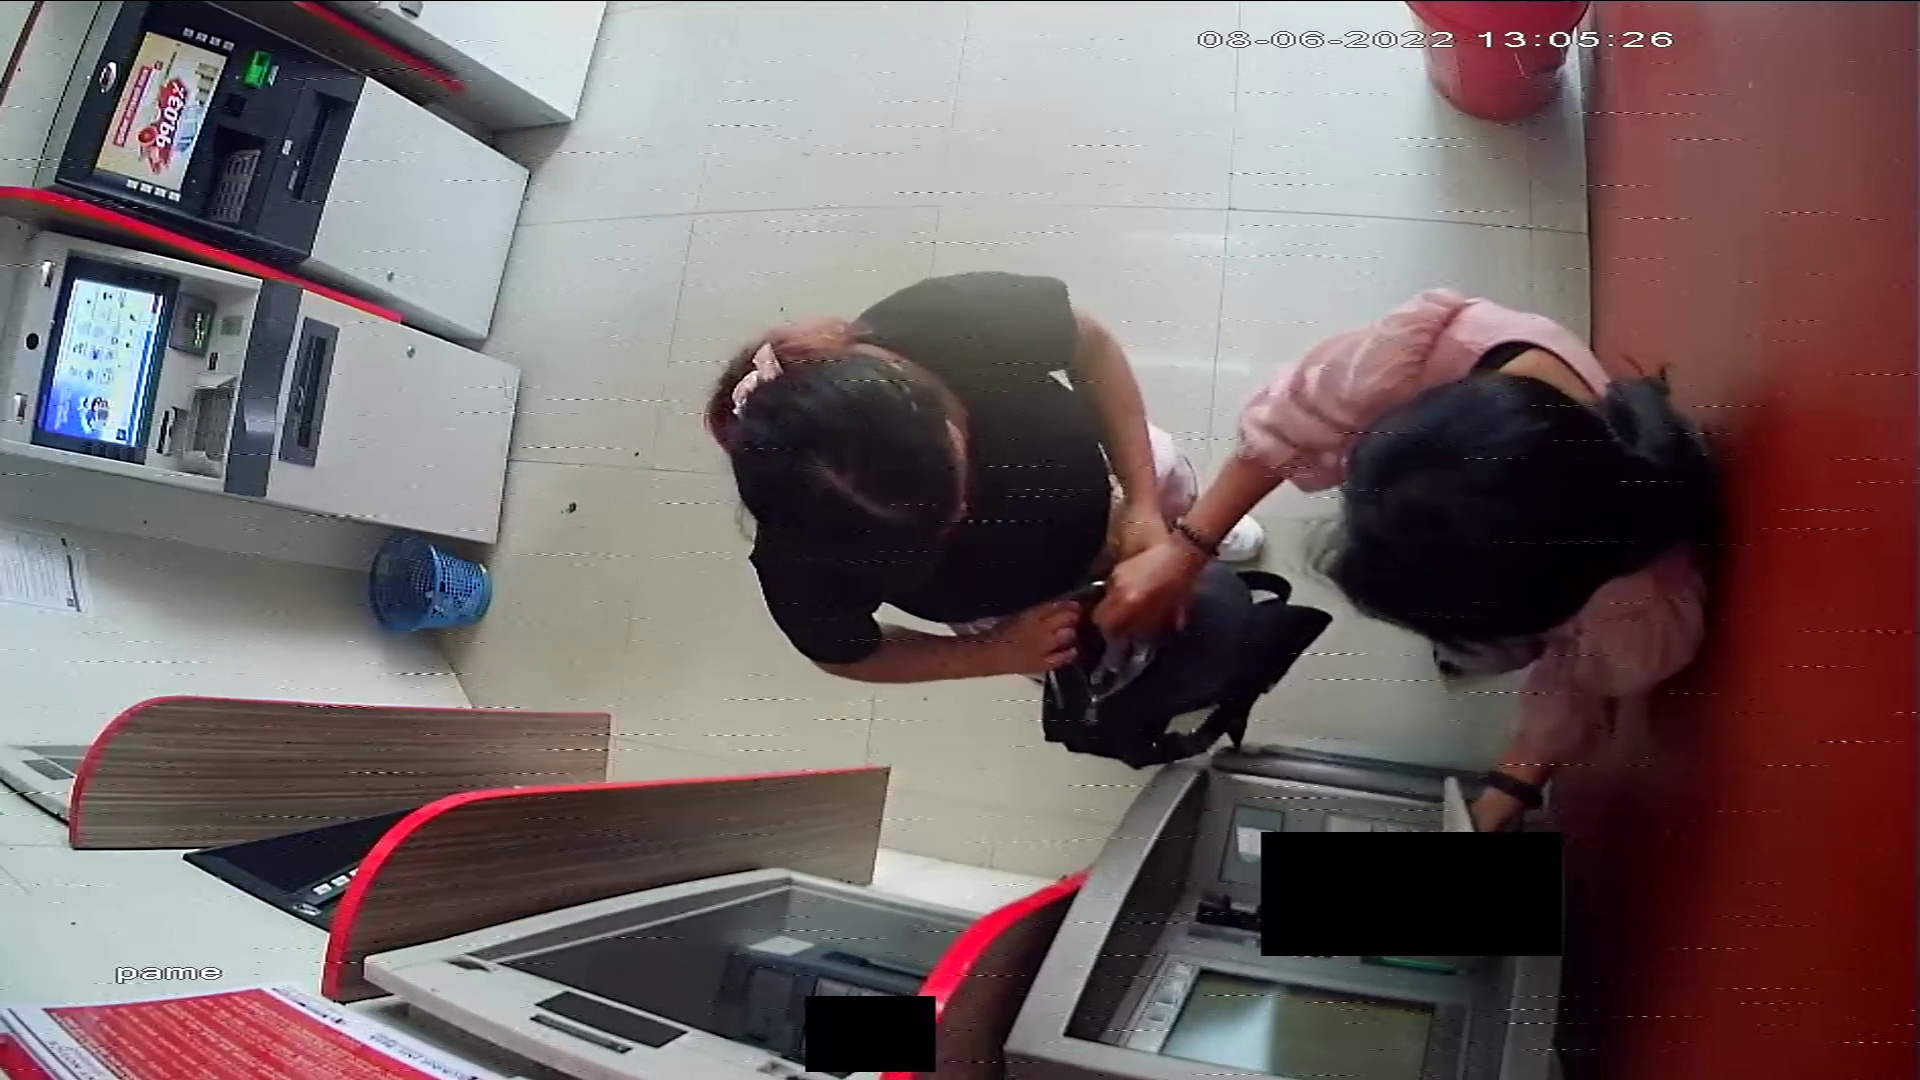person: (1154, 285, 1714, 843), (708, 273, 1261, 730)
